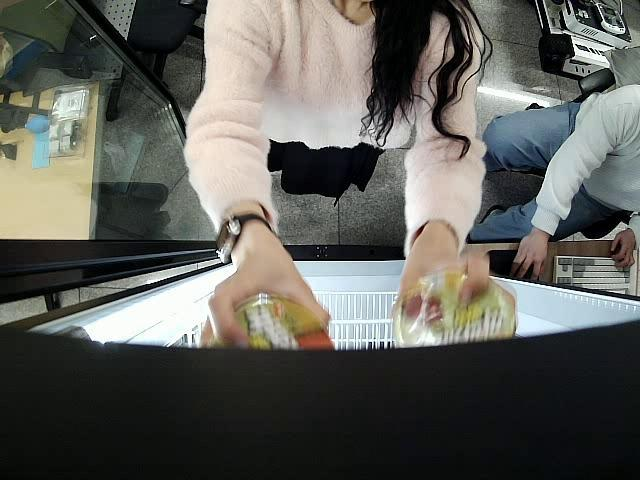04_chapagetti_S: (390, 272, 520, 350), (200, 294, 335, 350)
